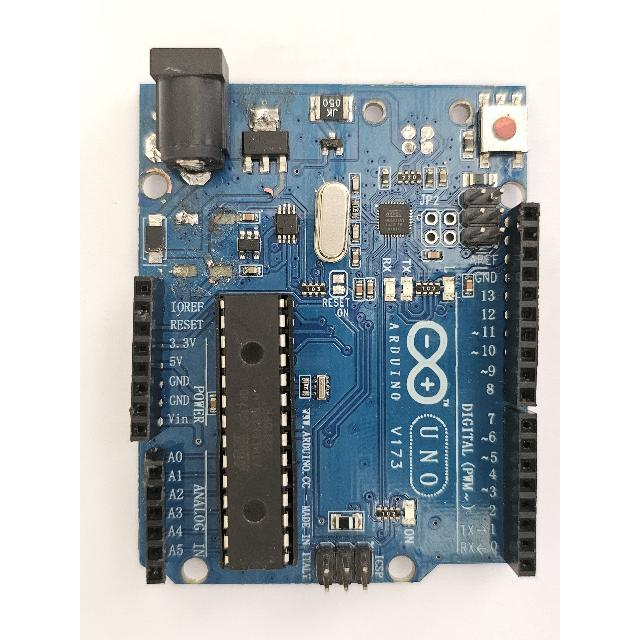missing_capacitors: (167, 203, 238, 287)
missing_usb: (355, 94, 467, 167)
